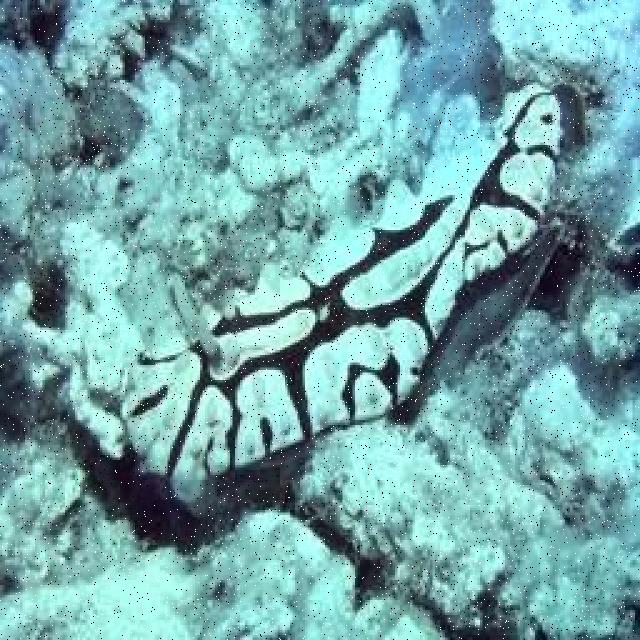reefs: (119, 82, 567, 512)
